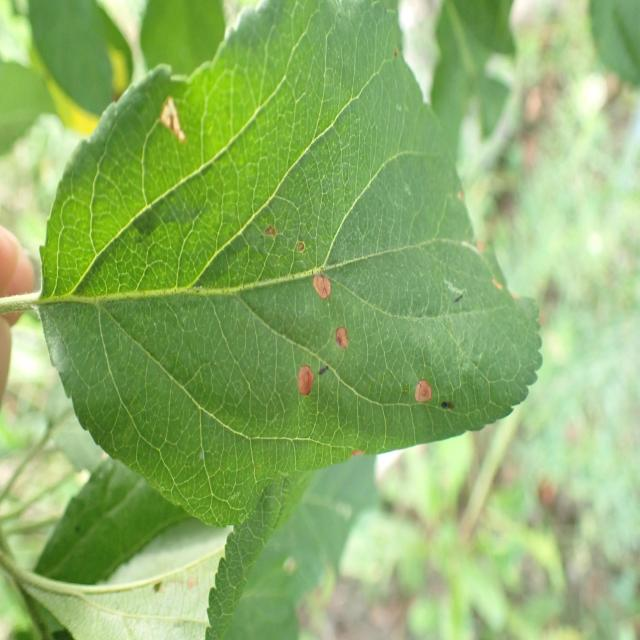Black Rot: (147, 91, 197, 151), (284, 342, 320, 424), (405, 363, 439, 449), (316, 296, 357, 359), (303, 257, 335, 308), (260, 218, 290, 257), (291, 228, 312, 264)
